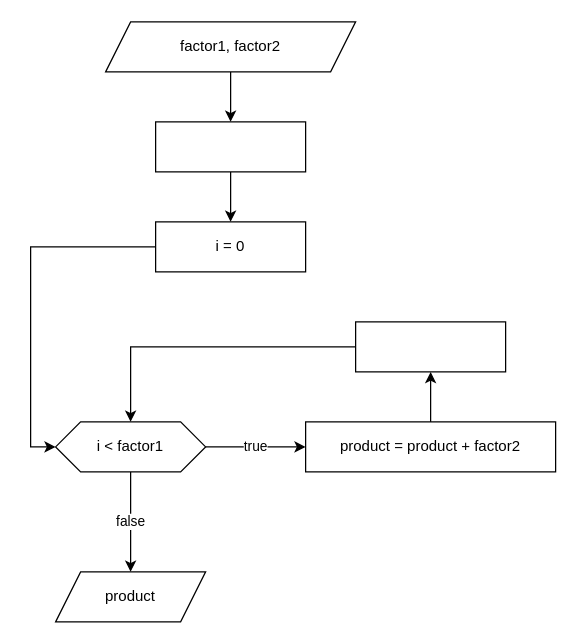
Some shapes in this 578 by 644 pixel diagram are drawn without their labels. Each missing label, with the centre of its shape:
"i = i +1" belongs at [430,346].
"product = 0" belongs at [230,146].
